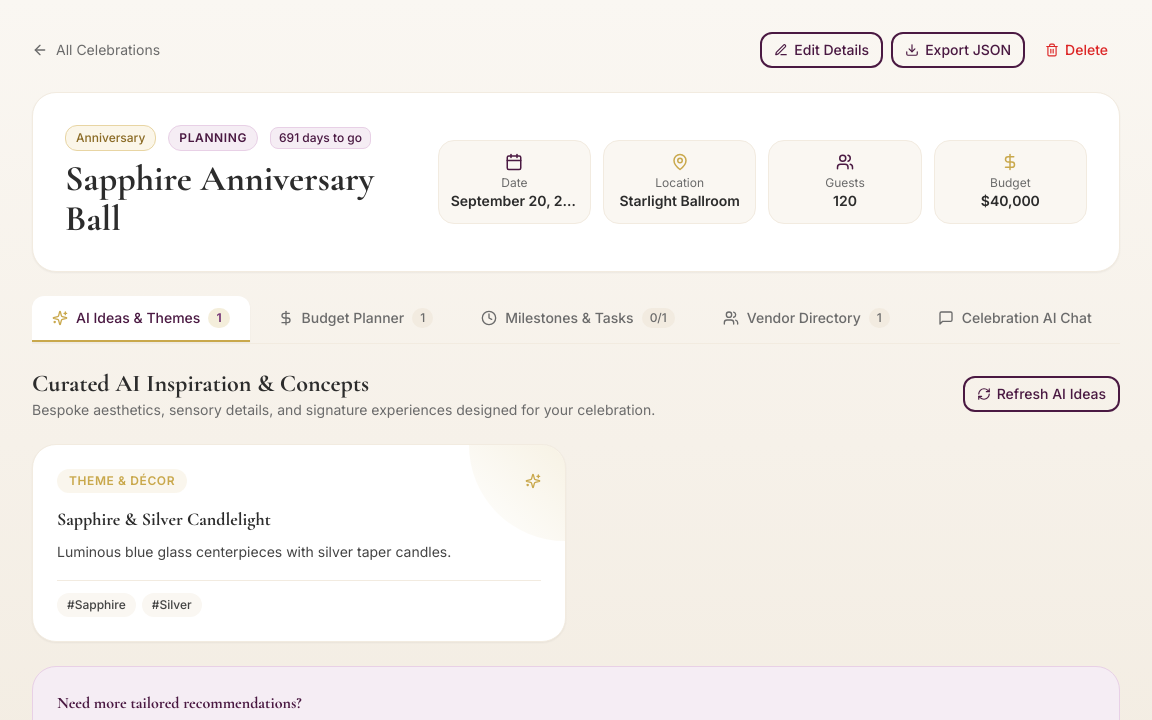
EventDashboardPage Component › handles tab switching between Budget, Timeline, Vendors, and Assistant tabs
Check: the heading "Sapphire Anniversary Ball" is shown, box [65,159,414,239]
Note: Switch to Budget tab
Click the button "Budget Planner 1".
click(355, 319)  # box [258,296,453,342]
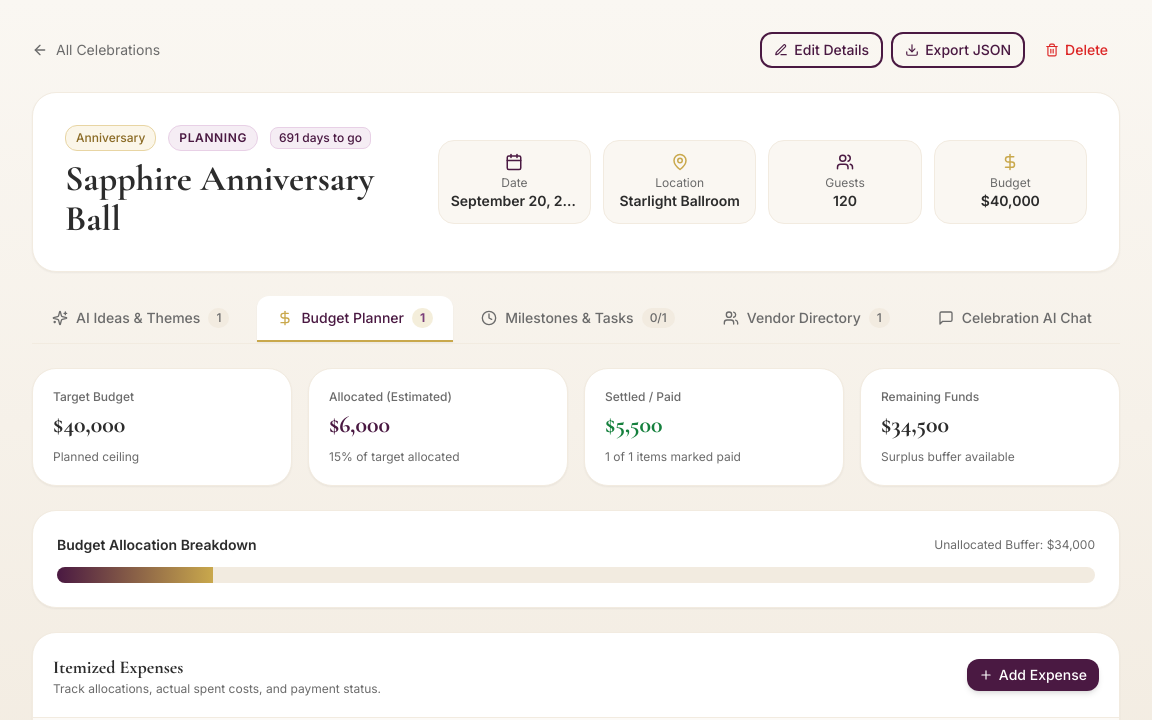
Check: the text "Target Budget" is shown, box [53,389,134,404]
Note: Switch to Timeline tab
Click the button "Milestones & Tasks 0/1".
click(578, 319)  # box [461,296,695,342]
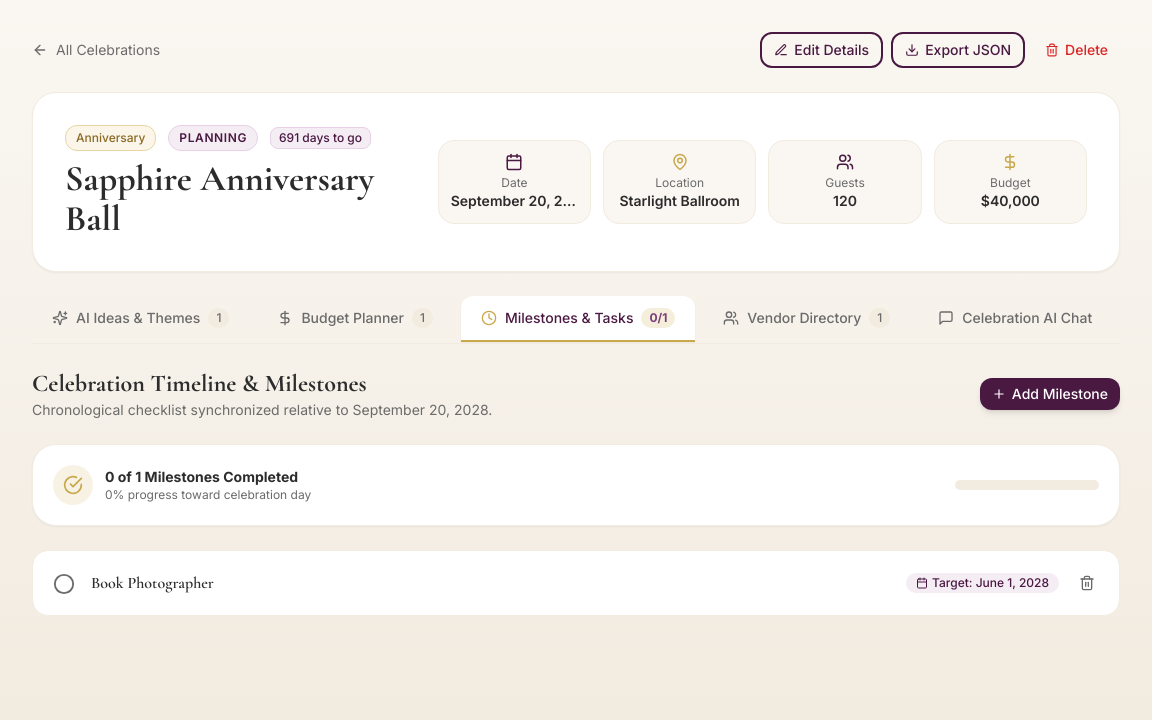
Check: the heading "Book Photographer" is shown, box [91,571,214,595]
Note: Switch to Vendors tab
Click the button "Vendor Directory 1".
click(807, 319)  # box [703,296,910,342]
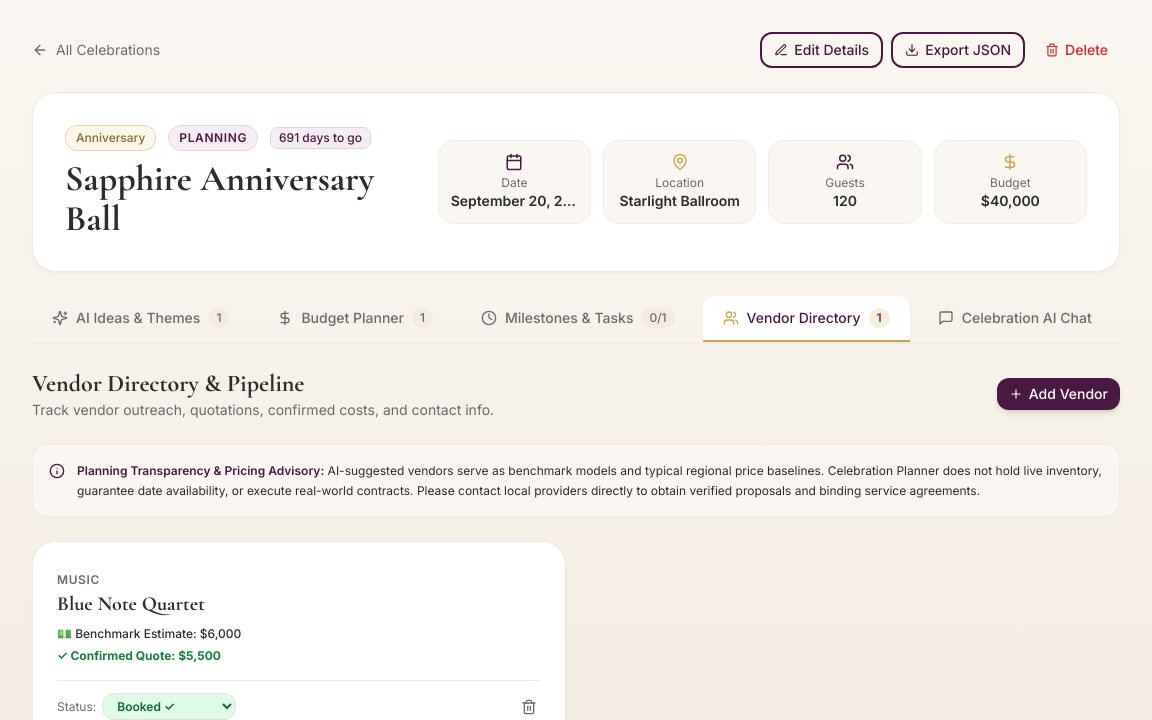
Check: the heading "Blue Note Quartet" is shown, box [57,590,205,618]
Note: Switch to Assistant tab
Click the button "Celebration AI Chat".
click(1015, 319)  # box [918,296,1112,342]
(page scrolled)
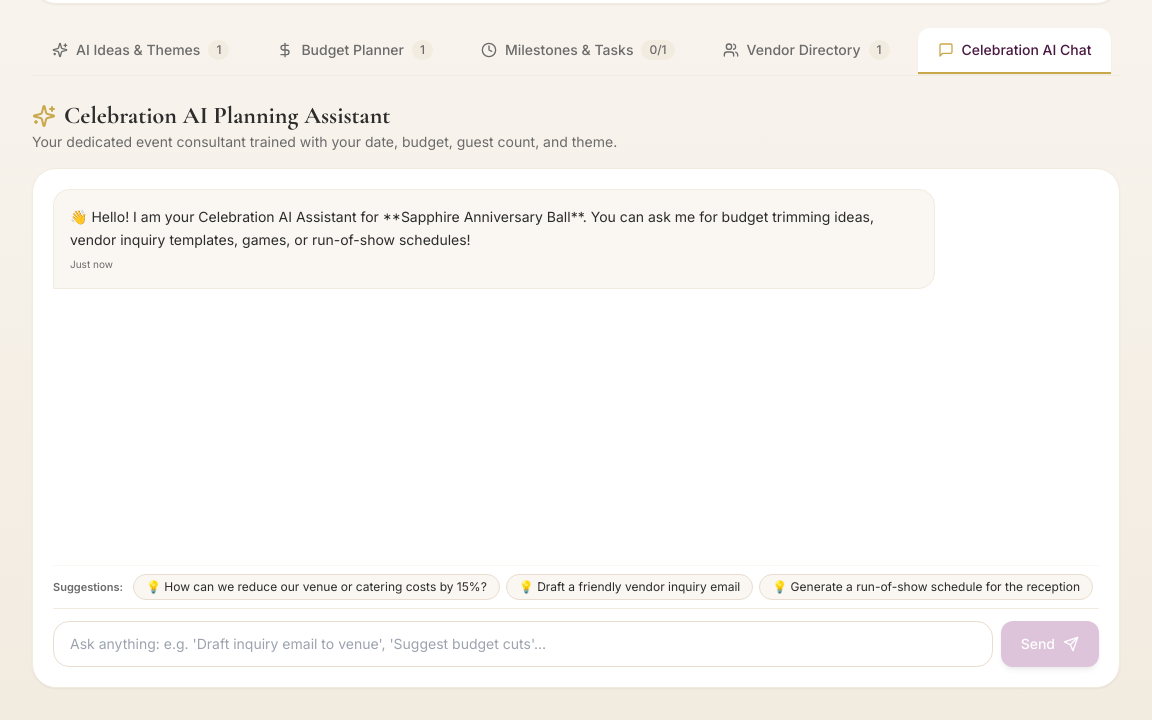
Check: the field with placeholder "Ask anything" is shown, box [53,621,993,667]
